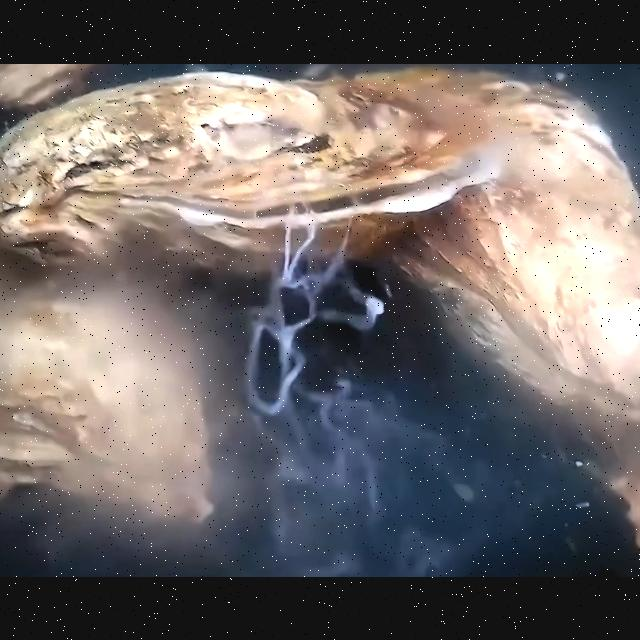Oyster-Closed: (352, 65, 640, 425), (1, 272, 216, 524)
Oyster-Open: (1, 70, 503, 276), (0, 63, 92, 108)
